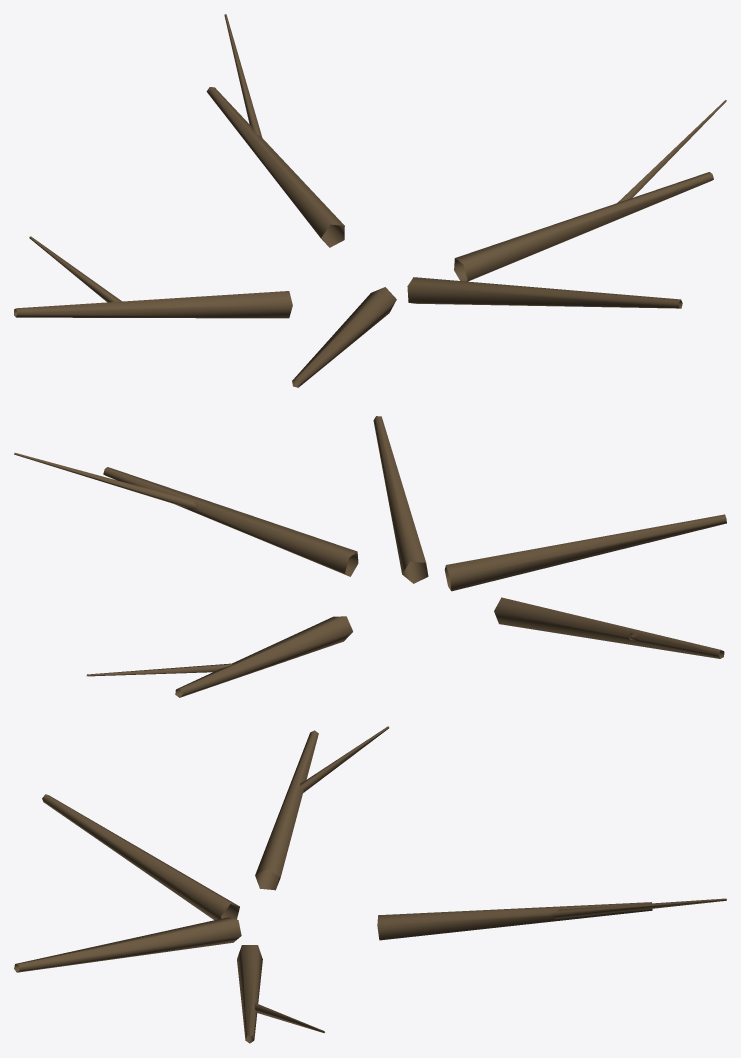
File: forest_deadwood.gltf
3 views of the same model, one above another, from view 1: azimuth 30°, elevation 25°; view 2: azimuth 150°, elevation 25°; view 3: azimuth 270°, elevation 25° (orthographic). The views are drawn at different scales.
Visible parts, largest first — view 1: forest_deadwood; view 2: forest_deadwood; view 3: forest_deadwood.
Boxes of the visible parts, bbox=[...] form: forest_deadwood: bbox=[14, 14, 726, 387]; forest_deadwood: bbox=[14, 416, 726, 697]; forest_deadwood: bbox=[14, 726, 726, 1043].
Size of the model in its own units: 2 by 0.2176 by 1.82.
